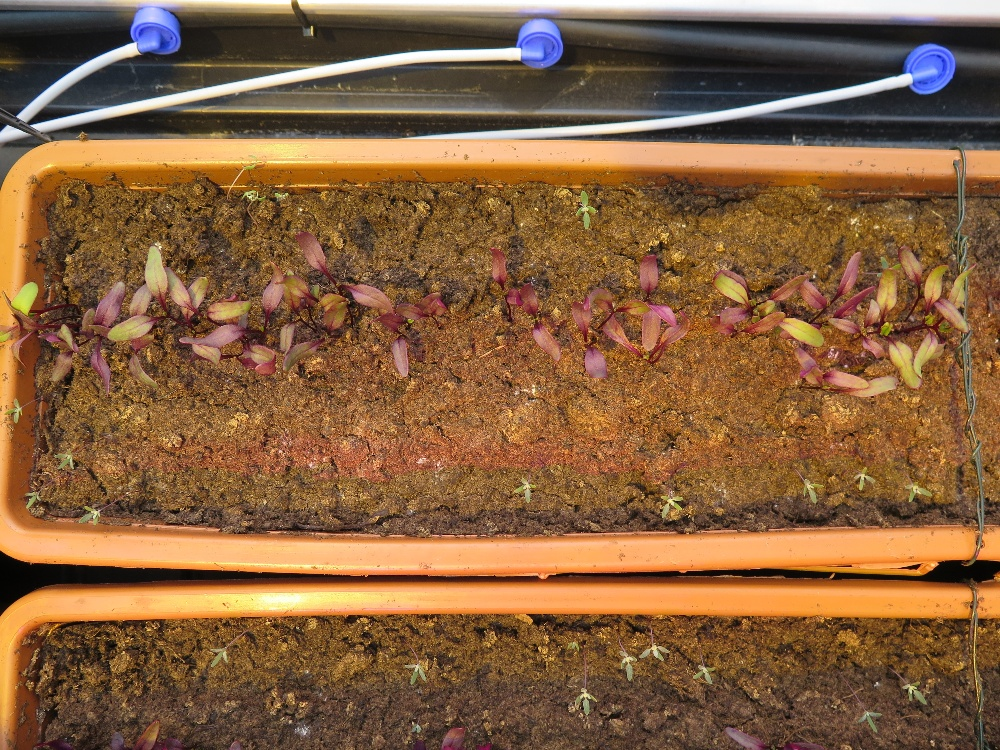crop: (773, 249, 907, 411), (857, 238, 980, 388), (534, 265, 677, 379), (225, 265, 341, 397), (707, 256, 834, 372), (139, 242, 252, 370), (473, 238, 571, 379), (277, 240, 402, 345), (357, 265, 464, 383), (71, 265, 168, 392), (1, 283, 84, 381), (714, 720, 852, 750), (105, 706, 173, 750), (434, 720, 500, 750)
weed: (557, 665, 614, 720), (505, 465, 559, 515), (555, 188, 602, 233), (650, 481, 693, 526), (75, 495, 116, 538), (396, 654, 439, 692), (639, 631, 684, 667), (9, 476, 55, 508), (902, 470, 937, 511), (855, 699, 891, 738), (50, 442, 84, 479), (843, 461, 882, 492), (207, 642, 246, 672), (7, 390, 34, 433), (689, 658, 723, 688), (907, 676, 932, 708), (796, 472, 821, 501), (612, 647, 632, 679)
